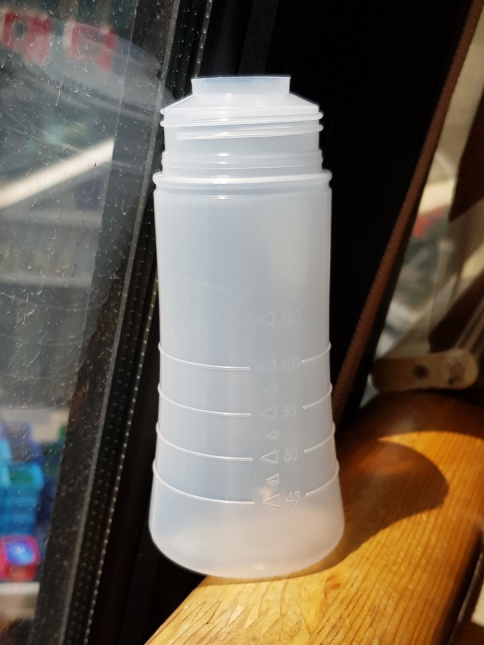Plastic: (139, 70, 351, 588)
